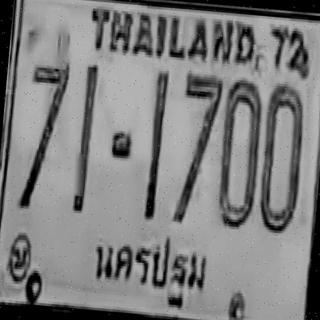N00: (255, 80, 308, 234), (214, 76, 265, 230)
N01: (71, 62, 100, 212), (142, 70, 169, 220)
N07: (18, 58, 71, 212), (172, 71, 224, 226)
P28: (87, 224, 215, 318)
